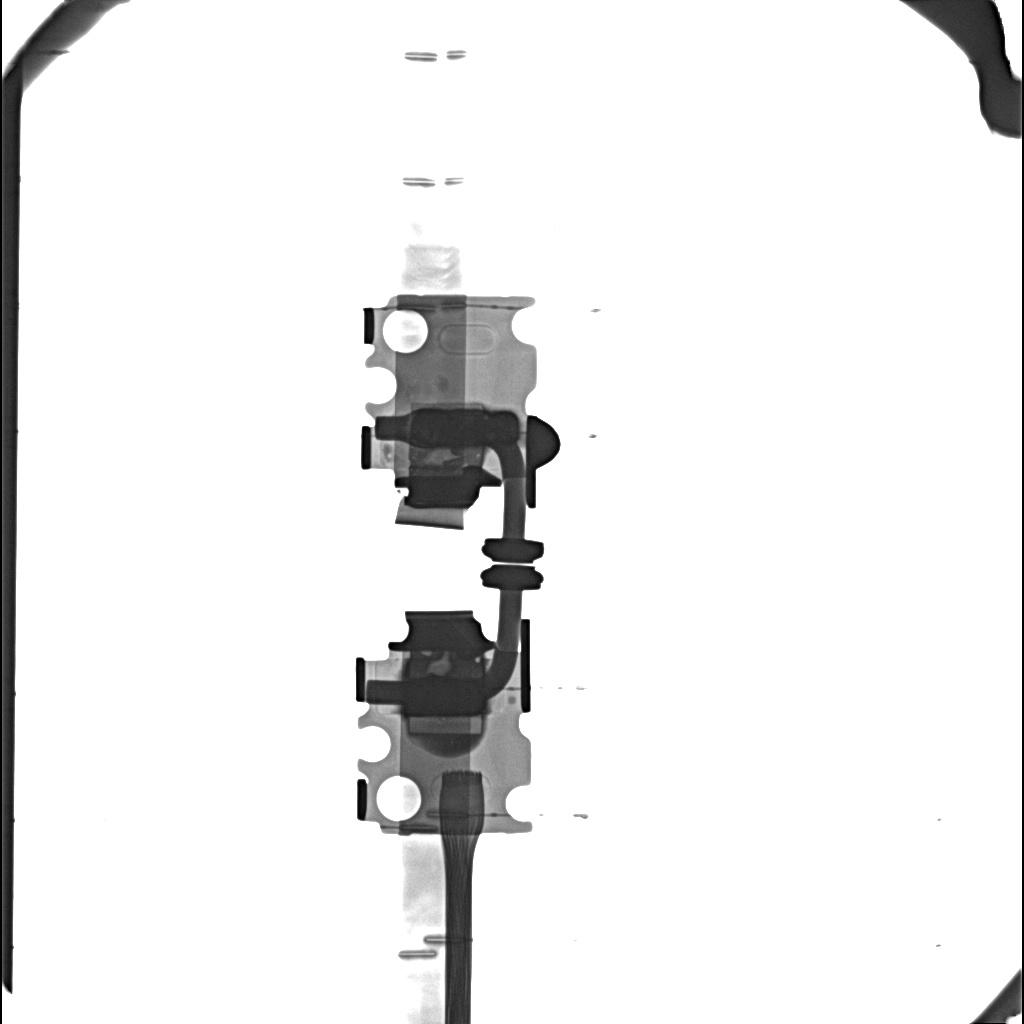defect: (409, 409, 518, 446), (404, 678, 486, 718), (407, 717, 484, 738), (411, 402, 484, 410), (424, 449, 461, 464), (427, 653, 451, 676)
